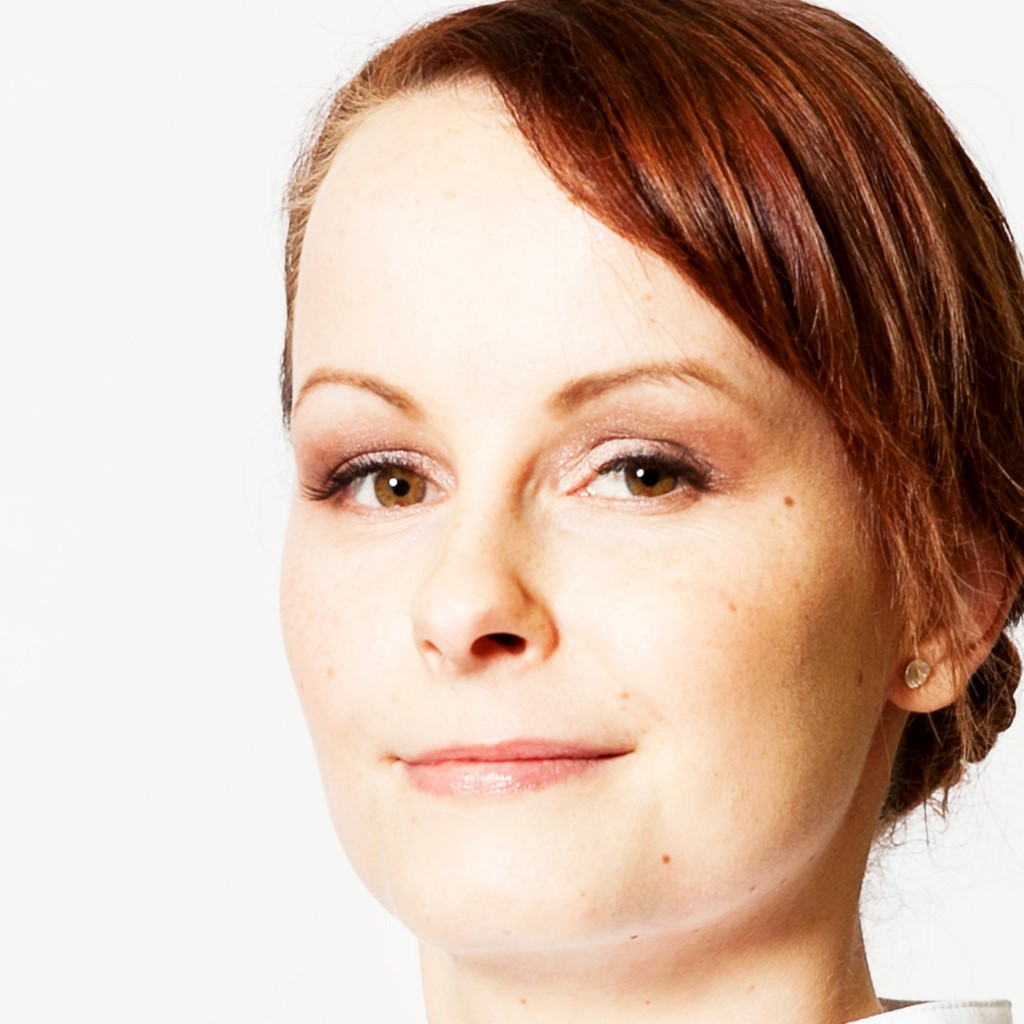sin_mascara: (284, 35, 992, 950)
